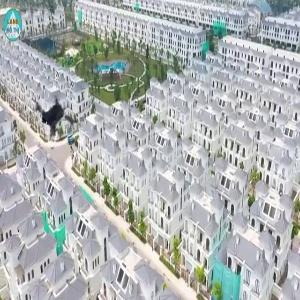drone: (17, 90, 86, 159)
